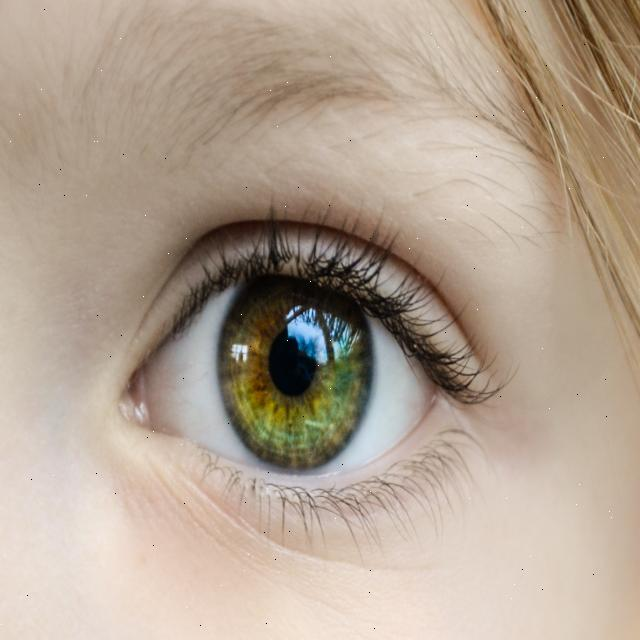Normal: (215, 250, 377, 480)
